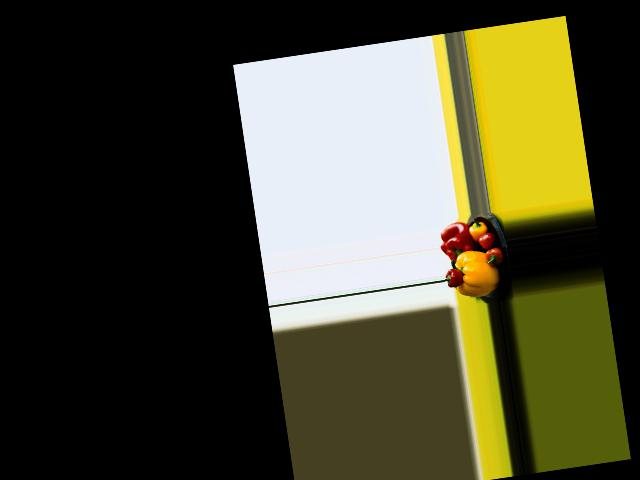bell_pepper: (467, 219, 488, 240)
